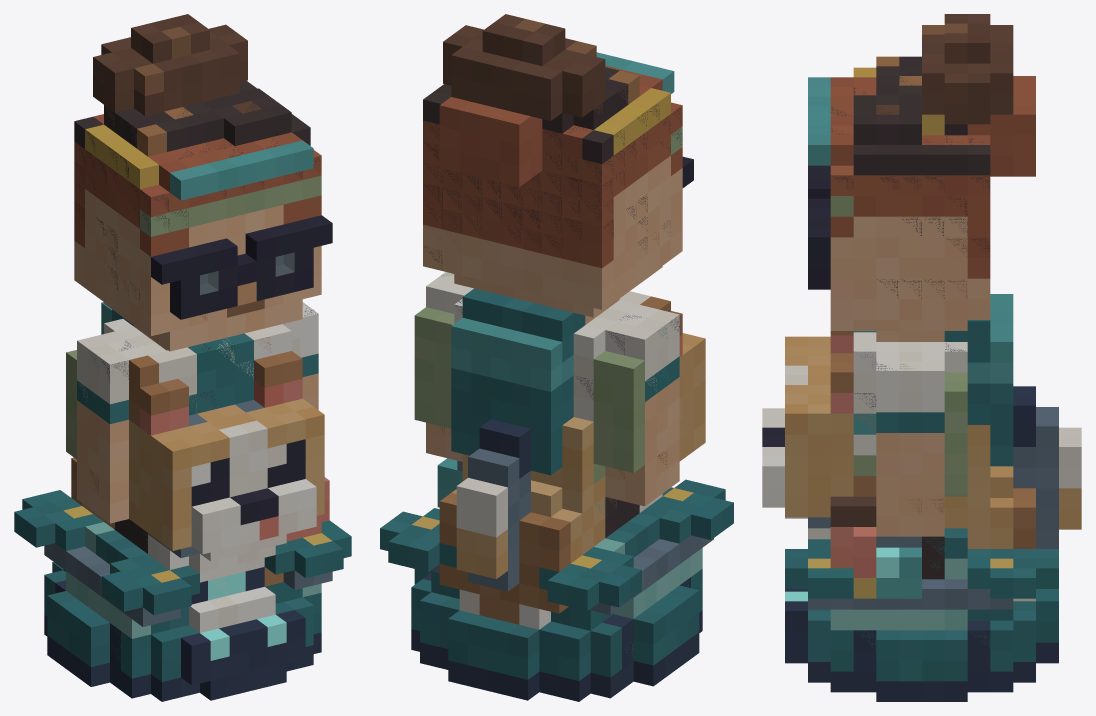
Rendered from characters.glb.
3 renders of one model, left to right at view 1: azimuth 30°, elevation 25°; view 2: azimuth 150°, elevation 25°; view 3: azimuth 270°, elevation 25°, orthographic. The views are drawn at different scales.
Visible parts, largest first — view 1: head (×10), body (×5), arm_r (×2), rotor_fr, rotor_br, top (×2), rotor_fl, ball, arm_l, leg_r; view 2: head (×9), body (×8), arm_r (×2), tail (×2), arm_l (×2), top (×2), rotor_br, rotor_fr, rotor_bl, ball, leg_r; view 3: head (×9), body (×9), arm_l (×2), tail (×2), top (×2), rotor_bl, ball, rotor_fl, leg_l, wing_l.
Boxes of the visible parts, x1,y1,x2,y2 form: head (×10): (74, 14, 332, 573); body (×5): (44, 319, 332, 701); arm_r (×2): (66, 331, 147, 523); rotor_fr: (102, 554, 199, 614); rotor_br: (14, 490, 103, 550); top (×2): (189, 477, 329, 632); rotor_fl: (264, 520, 351, 577); ball: (66, 522, 321, 638); arm_l: (282, 302, 318, 409); leg_r: (115, 519, 147, 553); head (×9): (423, 14, 705, 461); body (×8): (411, 288, 713, 701); arm_r (×2): (593, 305, 679, 506); tail (×2): (456, 419, 530, 591); arm_l (×2): (414, 272, 473, 461); top (×2): (459, 417, 605, 629); rotor_br: (539, 547, 641, 610); rotor_fr: (640, 479, 733, 543); rotor_bl: (380, 508, 456, 571); ball: (594, 538, 702, 618); leg_r: (605, 497, 639, 537); head (×9): (762, 14, 1035, 539); body (×9): (785, 294, 1058, 701); arm_l (×2): (876, 351, 967, 536); tail (×2): (1013, 386, 1081, 548); top (×2): (830, 425, 990, 598); rotor_bl: (967, 549, 1058, 598); ball: (830, 558, 967, 630); rotor_fl: (785, 539, 853, 598); leg_l: (922, 536, 944, 579); wing_l: (944, 528, 967, 558).
Bounding box in the file's own units: 0.75 × 1.88 × 0.875.
